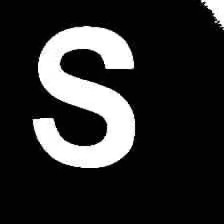LTR_S: (30, 22, 136, 170)
